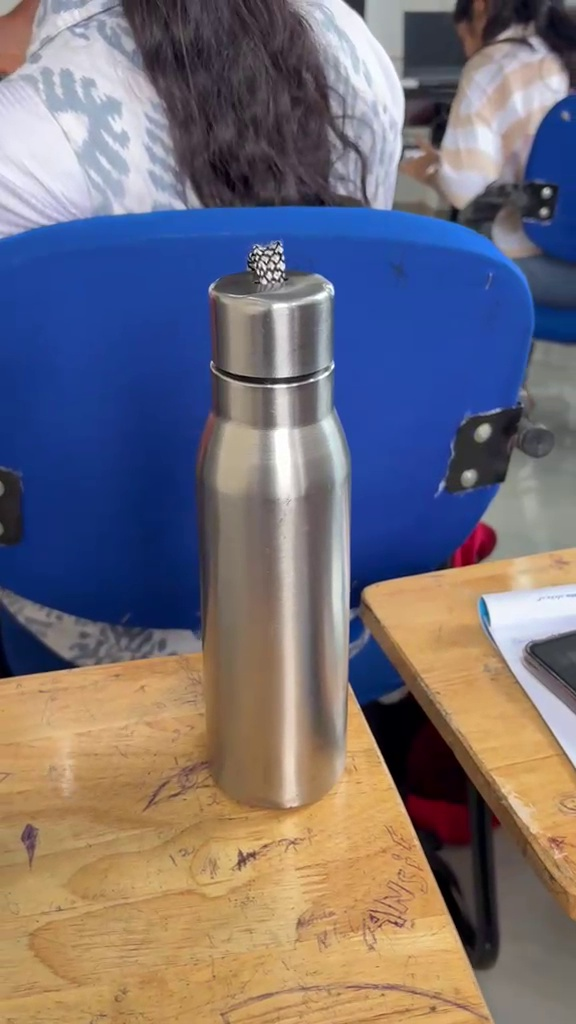Bottle: (192, 228, 355, 817)
